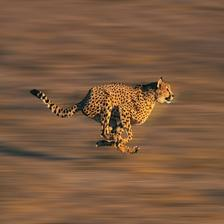Cheetah: (24, 75, 177, 156)
